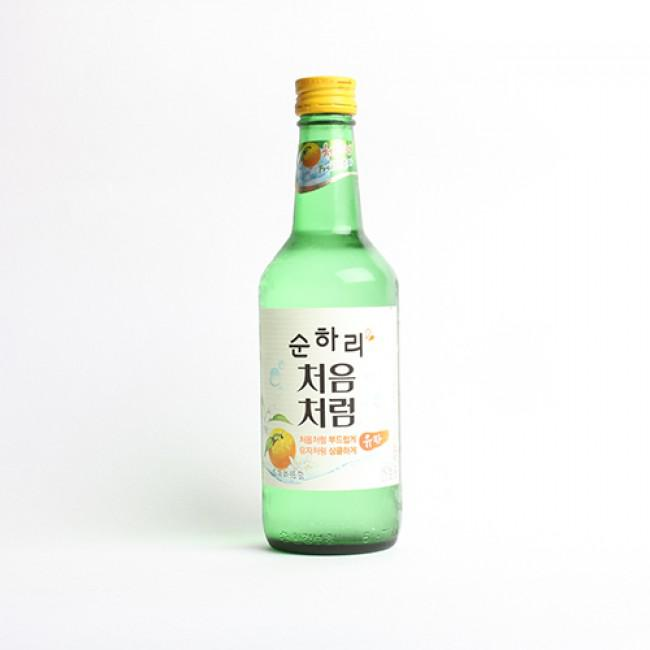soju: (254, 77, 407, 559)
